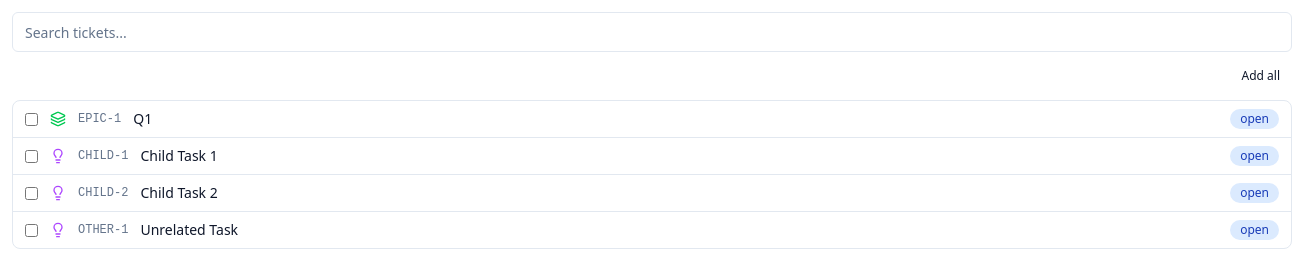
Test: ChainTicketSelector - Epic Children Visibility › hides children from list when epic is selected
Expected: the text "EPIC-1" is shown, [78,111,121,127]
Expected: the text "CHILD-1" is shown, [78,148,128,164]
Note: Click epic to select it
Click the checkbox labelled "EPIC-1 Q1 open": x=32, y=119 [25,112,38,126]
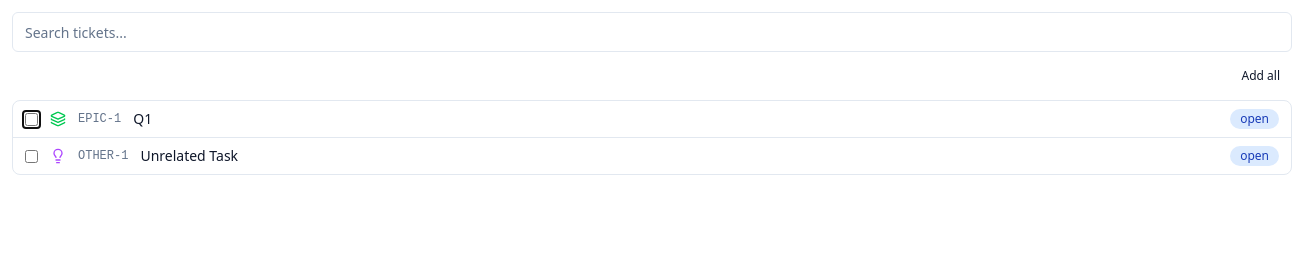
Expected: the text "EPIC-1" is shown, [78,111,121,127]
Expected: the text "CHILD-1" is gone
Expected: the text "CHILD-2" is gone
